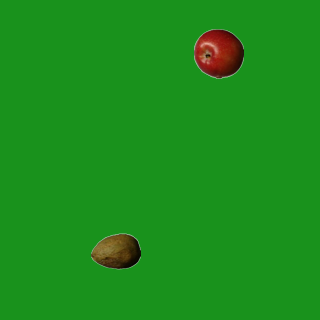Apple Braeburn: (193, 28, 243, 78)
Papaya: (90, 226, 140, 276)
